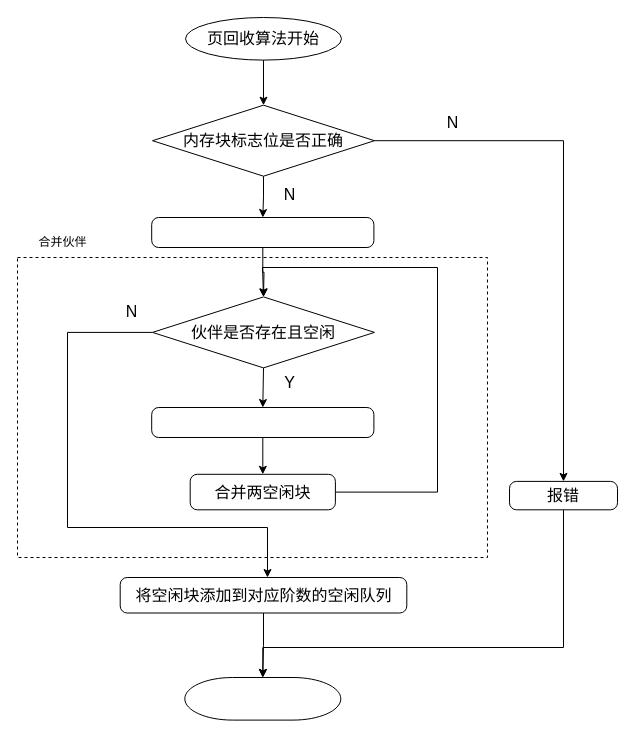
This 635x738 diagram has some shape labels left out. Here are the shapes that lost their labels. From the top down, the centre of each, then its label:
At (x=262, y=232): "从空闲队列删除该内存块".
At (x=262, y=422): "从空闲队列删除伙伴".
At (x=262, y=698): "页回收算法结束".
